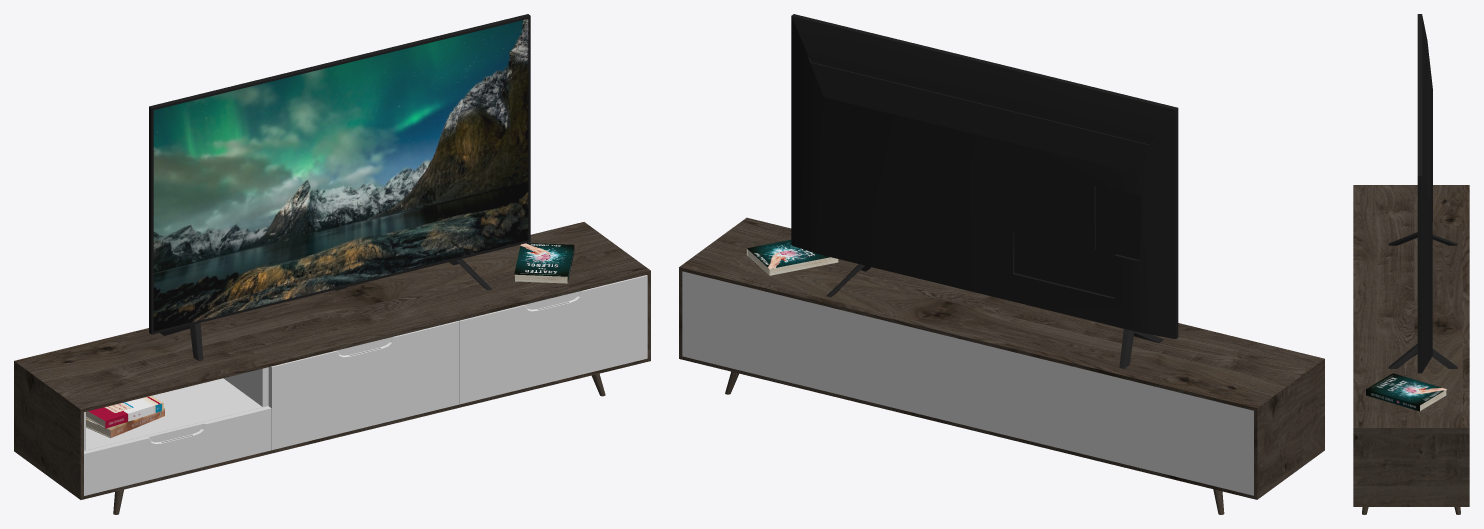
The picture shows the model from 3 angles, left to right: view 1: azimuth 30°, elevation 25°; view 2: azimuth 150°, elevation 25°; view 3: azimuth 270°, elevation 25°; orthographic projection. The views are drawn at different scales.
Visible parts, largest first — view 1: Cabinet1_Door; view 2: Cabinet1_Door; view 3: Cabinet1_Door.
Part boxes in pixels (x1,y1,x2,y2): Cabinet1_Door: (14, 14, 650, 514); Cabinet1_Door: (679, 14, 1324, 514); Cabinet1_Door: (1353, 14, 1469, 514).
Bounding box in the file's own units: 1.82 × 1.12 × 0.369.
Materials: 8 (6 with a texture image).
